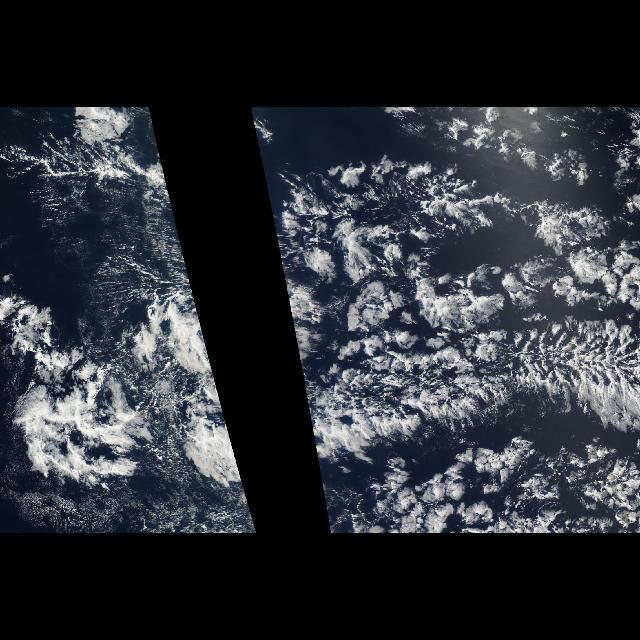Fish: (290, 319, 640, 455)
Flower: (332, 220, 640, 328)
Sugar: (28, 185, 172, 322)
